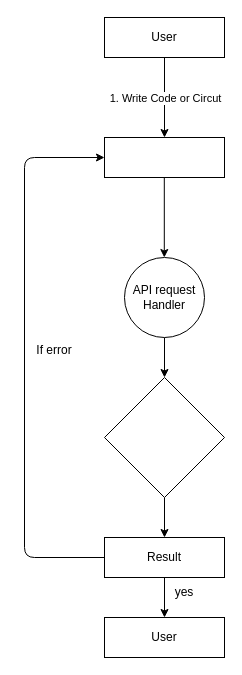
Some shapes in this 242 by 675 pixel diagram are drawn without their labels. Here are the shapes that lost their labels. From the top down, the centre of each, then its label:
[164,157]: Input
[164,437]: QisKit SDK
